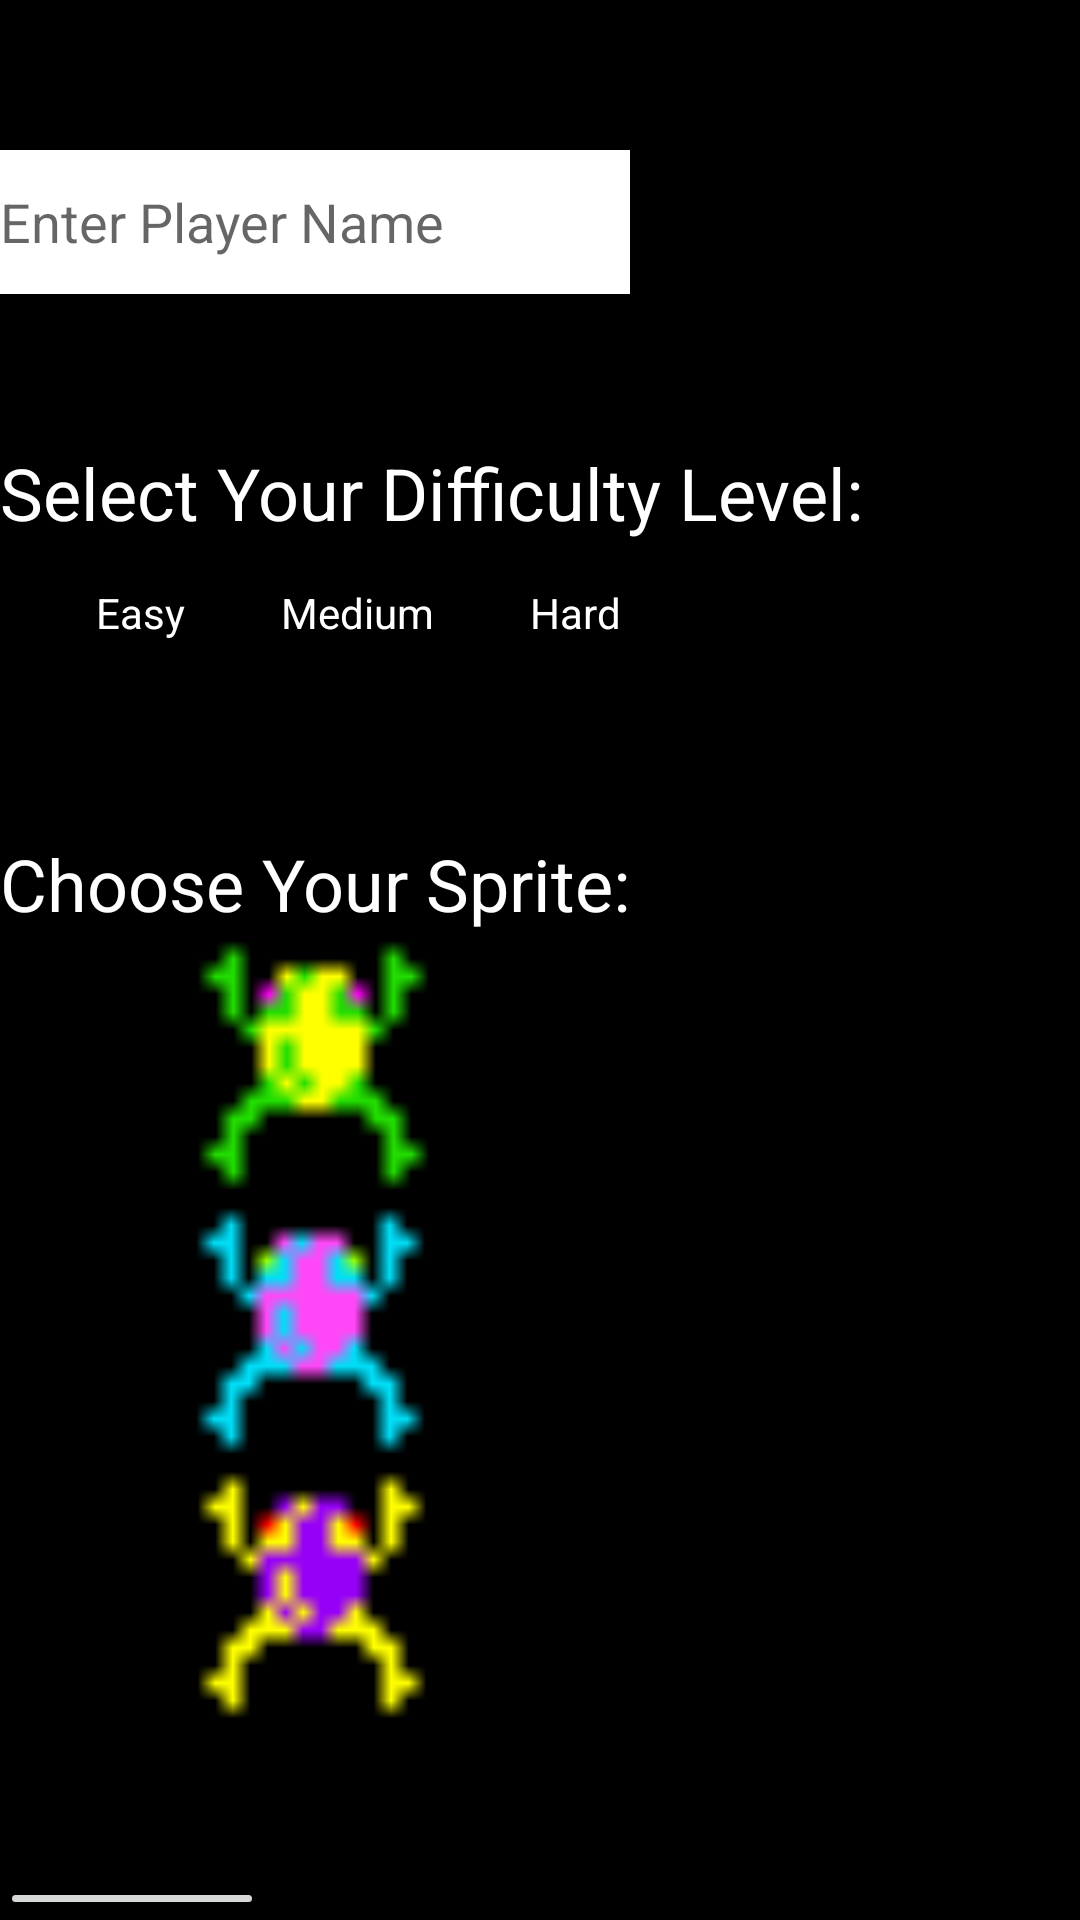

Icons on this 1080px×1920px Android screen, each with the point to tap as [x,y]:
bluefrog: [310,1331]
greenfrog: [313,1065]
purplefrog: [312,1595]
